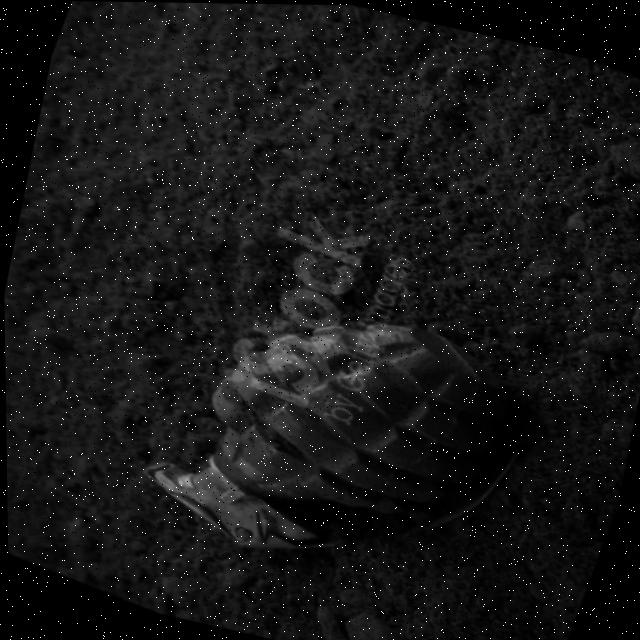grenade: (108, 233, 585, 640)
